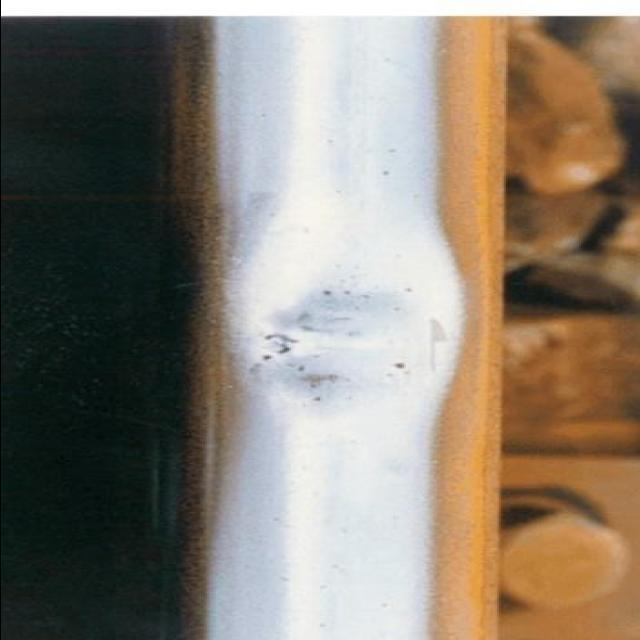head_checks_high: (193, 197, 485, 421)
